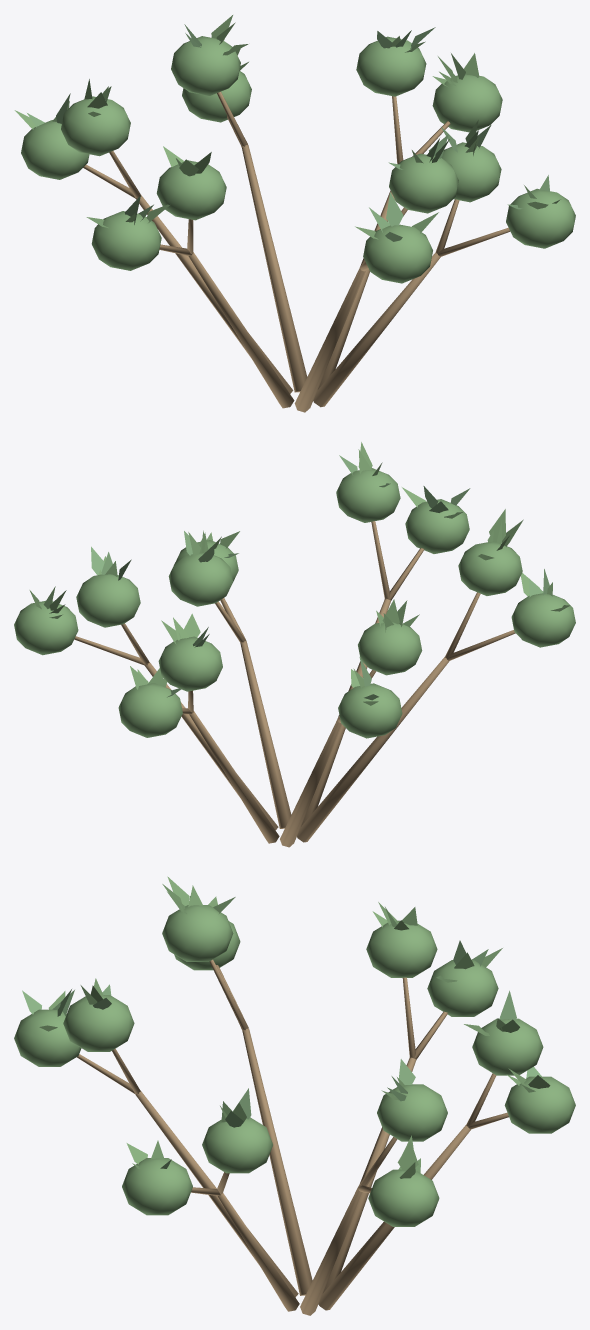
Rendered from berry_bush.glb.
The picture shows the model from 3 angles, top to bottom: view 1: azimuth 30°, elevation 25°; view 2: azimuth 150°, elevation 25°; view 3: azimuth 270°, elevation 25°; orthographic projection. The views are drawn at different scales.
Parts seen in each view (by area): view 1: org_berry_bush; view 2: org_berry_bush; view 3: org_berry_bush.
Boxes of the visible parts, x1,y1,x2,y2 form: org_berry_bush: (14, 15, 575, 412); org_berry_bush: (14, 442, 575, 847); org_berry_bush: (14, 876, 575, 1315).
Bounding box in the file's own units: 1.29 × 0.8401 × 1.25.
